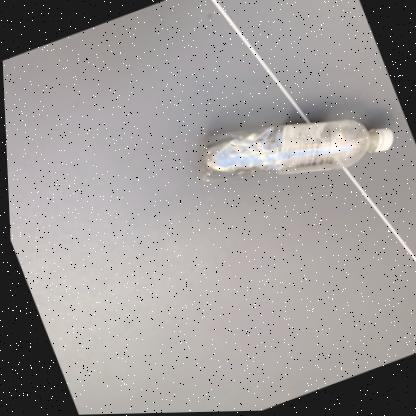Plastic: (199, 120, 392, 182)
